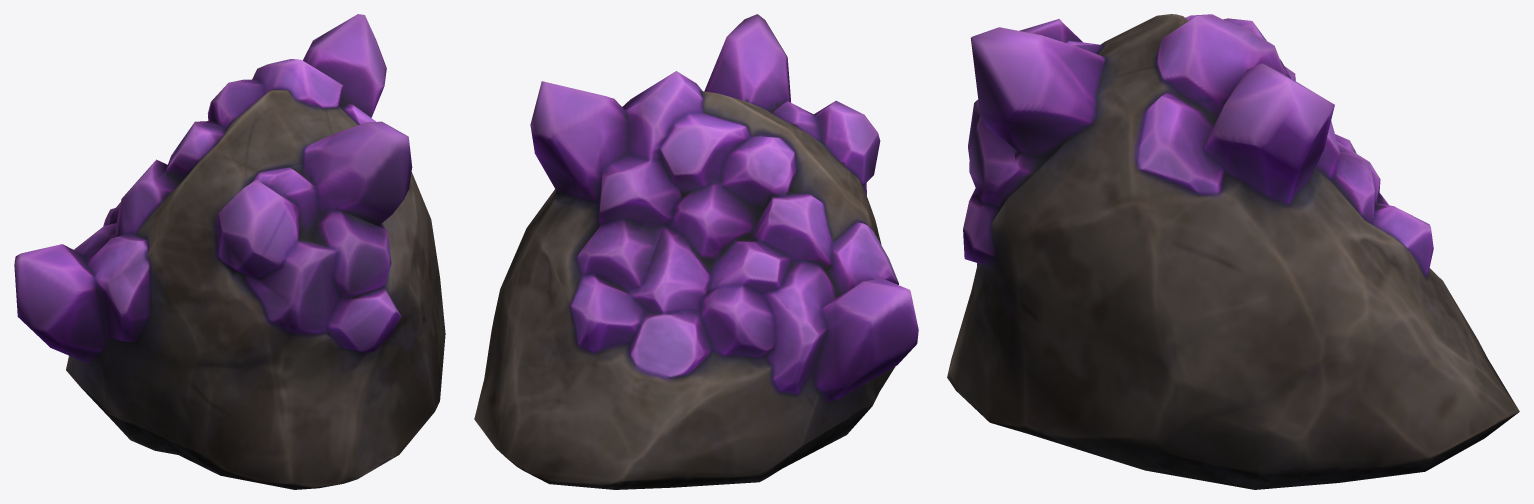
The model's file is SM_Gem_Amethyst_002.fbx.
3 views of the same model, side by side, from view 1: azimuth 30°, elevation 25°; view 2: azimuth 150°, elevation 25°; view 3: azimuth 270°, elevation 25° (orthographic). The views are drawn at different scales.
Parts seen in each view (by area): view 1: SM_Gem_Amethyst_002; view 2: SM_Gem_Amethyst_002; view 3: SM_Gem_Amethyst_002.
Boxes of the visible parts, x1,y1,x2,y2 form: SM_Gem_Amethyst_002: [14, 14, 445, 489]; SM_Gem_Amethyst_002: [474, 14, 918, 489]; SM_Gem_Amethyst_002: [947, 14, 1519, 489].
Bounding box in the file's own units: 65.44 × 51.51 × 65.91.
